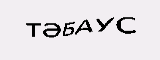А: (76, 17, 94, 36)
Б: (62, 17, 78, 36)
С: (117, 14, 139, 33)
Т: (26, 20, 40, 37)
У: (93, 16, 116, 36)
Ә: (41, 20, 60, 40)
